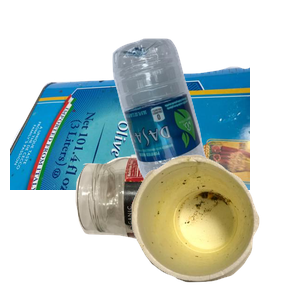glass: (73, 153, 284, 300)
metal: (10, 64, 250, 244)
plastic: (110, 36, 300, 216)
trash: (129, 152, 300, 300)
